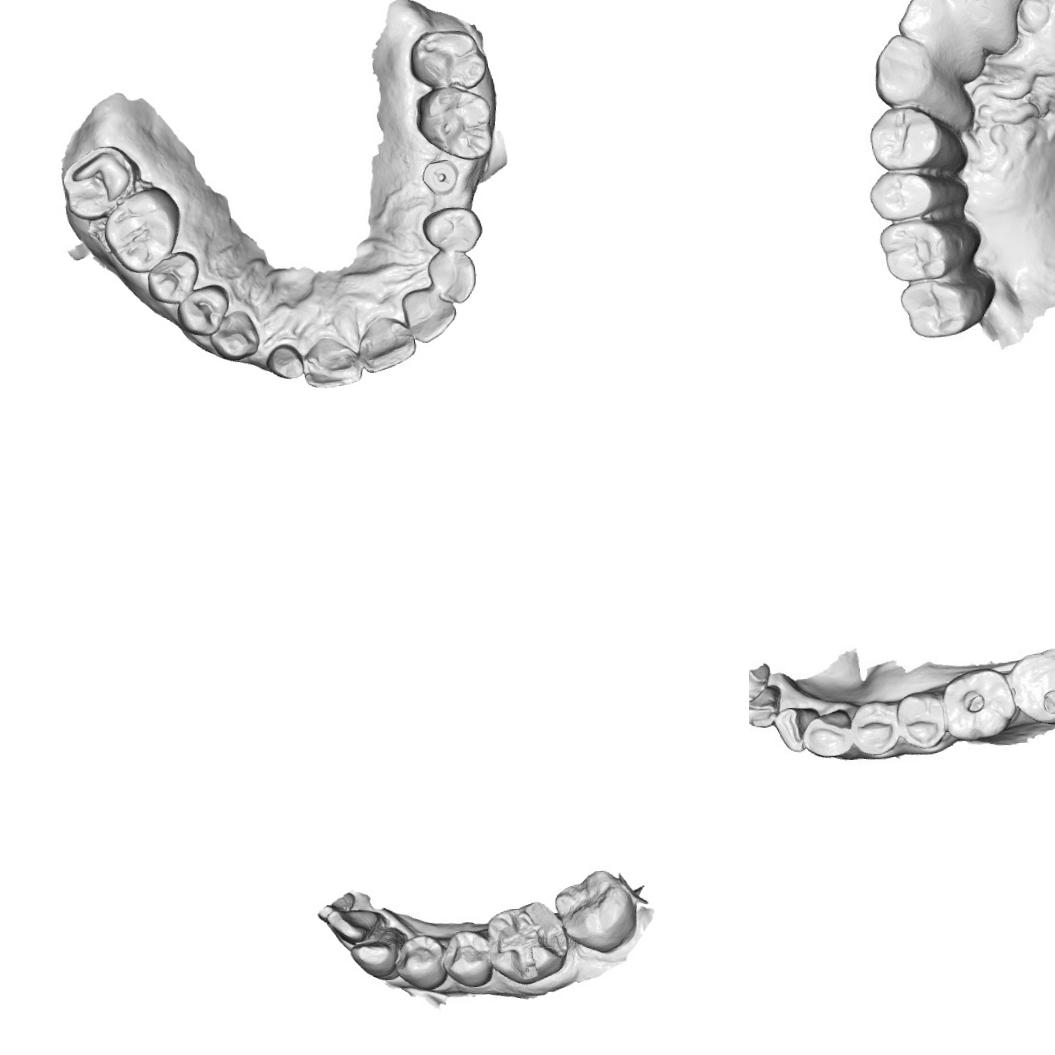canine: (866, 30, 978, 139), (422, 247, 480, 306), (800, 707, 857, 761), (206, 307, 260, 363), (348, 934, 398, 982)
crown: (263, 338, 306, 383)
implant_minus: (418, 156, 462, 198)
incisor: (897, 0, 979, 83), (928, 0, 1019, 57), (351, 311, 419, 375), (398, 284, 459, 346), (300, 333, 363, 391), (772, 702, 818, 754), (324, 905, 374, 946), (749, 681, 782, 731)
inlay: (494, 907, 570, 982)
molar: (550, 865, 640, 957), (99, 182, 185, 278), (410, 83, 496, 165), (57, 142, 145, 222), (892, 271, 992, 341), (938, 664, 1017, 744), (878, 219, 974, 282), (405, 25, 491, 94), (1006, 645, 1055, 726)
premolar: (871, 104, 973, 175), (868, 164, 973, 222), (392, 932, 450, 994), (172, 281, 233, 339), (439, 926, 494, 990), (419, 203, 485, 256), (893, 688, 946, 752), (144, 248, 202, 306), (848, 697, 900, 756)
